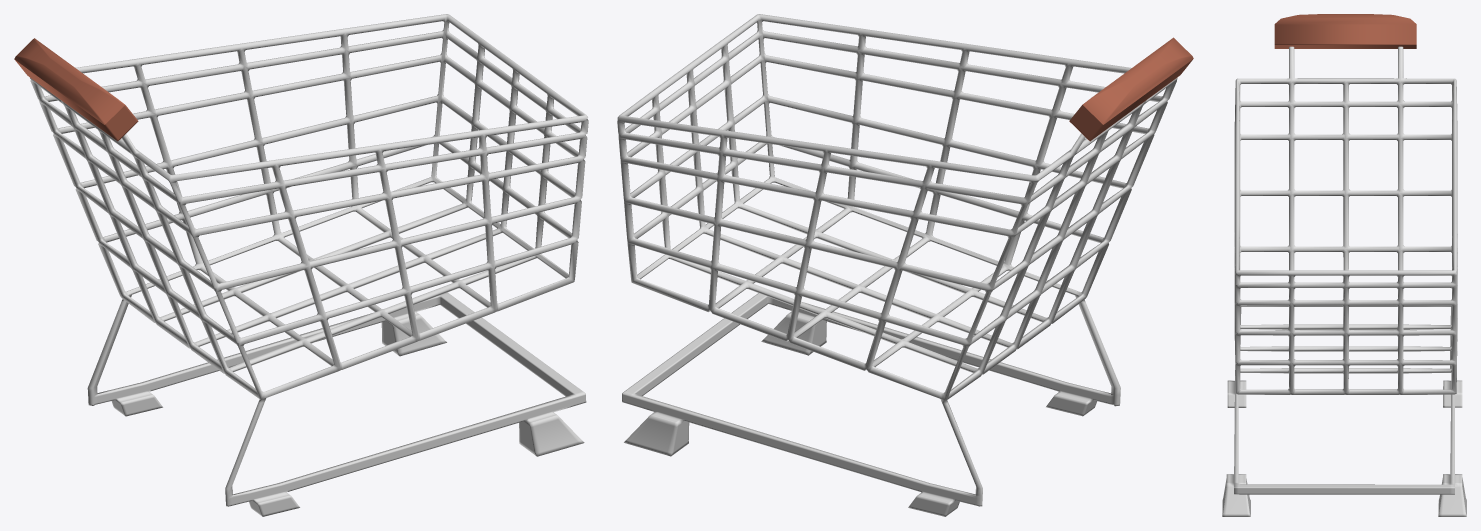
The model's file is shopping_cart_base_mesh.fbx.
The picture shows the model from 3 angles, left to right: view 1: azimuth 30°, elevation 25°; view 2: azimuth 150°, elevation 25°; view 3: azimuth 270°, elevation 25°; orthographic projection. The views are drawn at different scales.
Parts seen in each view (by area): view 1: shopping cart_base; view 2: shopping cart_base; view 3: shopping cart_base.
Boxes of the visible parts, left/top/right/bottom form: shopping cart_base: left=14, top=14, right=588, bottom=516; shopping cart_base: left=617, top=14, right=1193, bottom=516; shopping cart_base: left=1222, top=14, right=1466, bottom=516.
Size of the model in its own units: 57.21 by 98.58 by 86.81.
